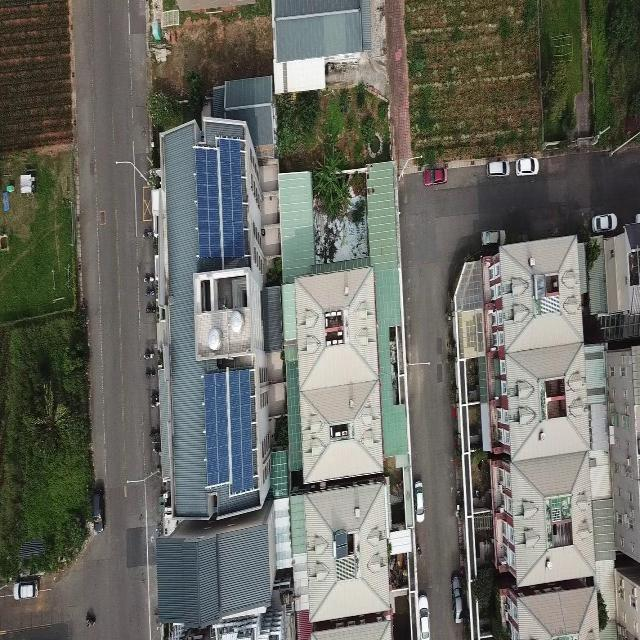bike: (85, 610, 96, 632)
car: (449, 571, 465, 625), (91, 477, 106, 532), (415, 592, 432, 639), (592, 212, 618, 236), (11, 580, 40, 598), (422, 166, 448, 186), (516, 155, 539, 177), (414, 482, 426, 524), (486, 159, 508, 176)
